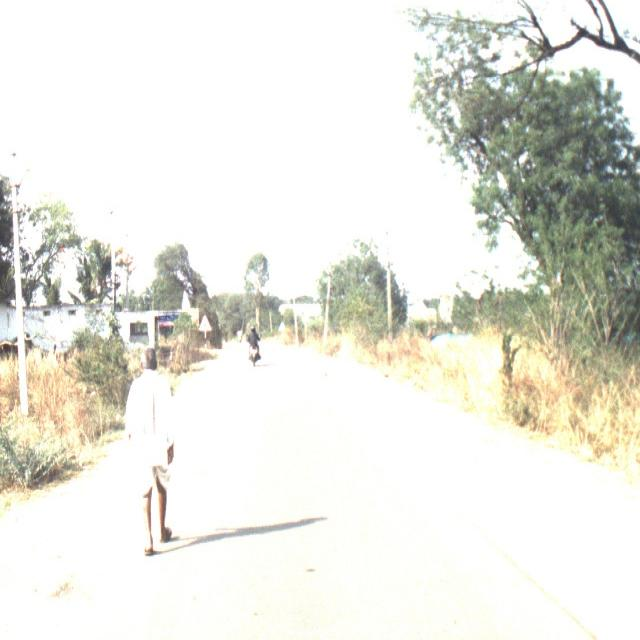high: (126, 340, 180, 545)
